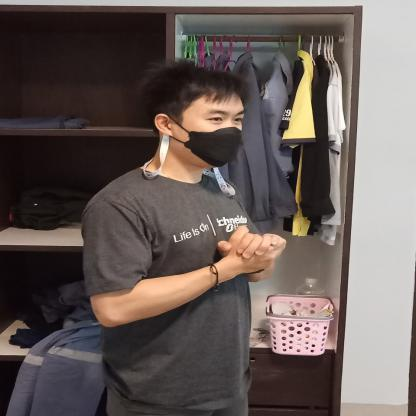Grieve: (123, 214, 299, 310)
